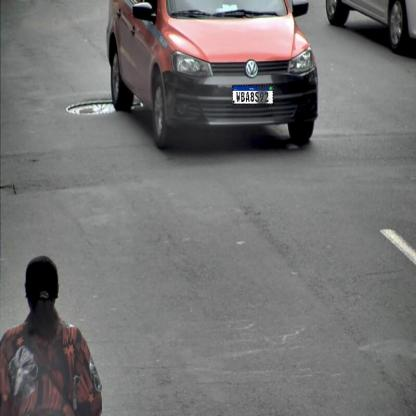PlacaM: (232, 85, 273, 105)
